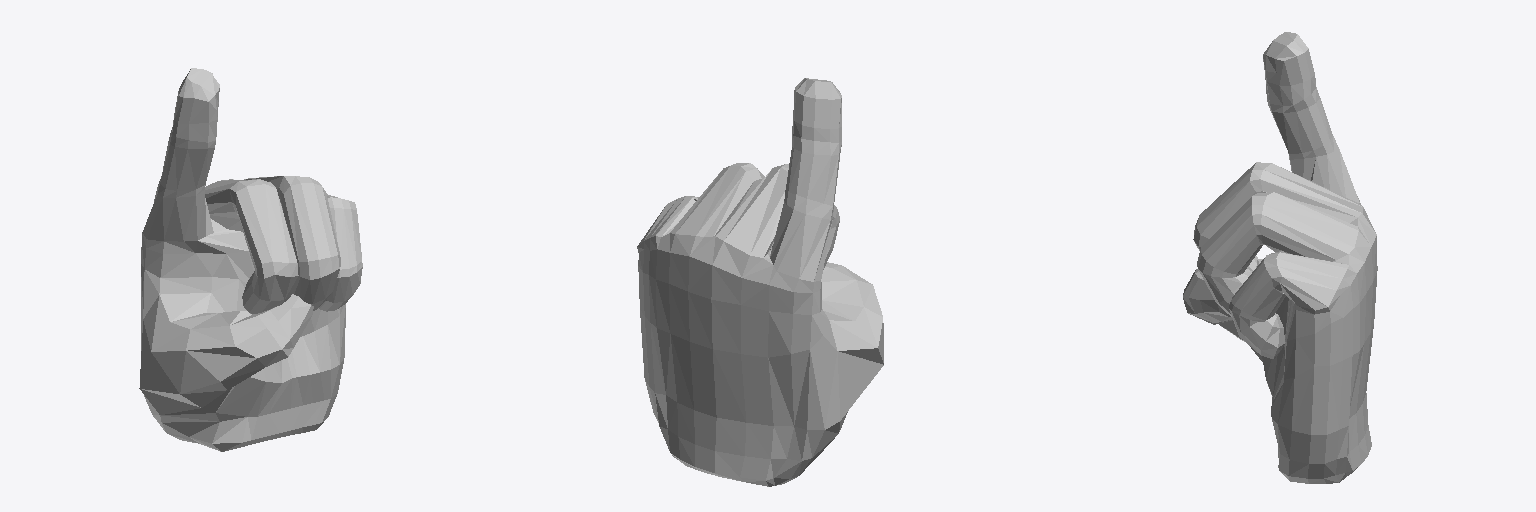
The model's file is indicador.obj.
3 views of the same model, side by side, from view 1: azimuth 30°, elevation 25°; view 2: azimuth 150°, elevation 25°; view 3: azimuth 270°, elevation 25° (orthographic).
Parts seen in each view (by area): view 1: Box03; view 2: Box03; view 3: Box03.
Boxes of the visible parts, <box> form: Box03: <box>139,68,362,451</box>; Box03: <box>637,78,883,486</box>; Box03: <box>1183,32,1377,483</box>.
Size of the model in its own units: 132 by 229 by 104.